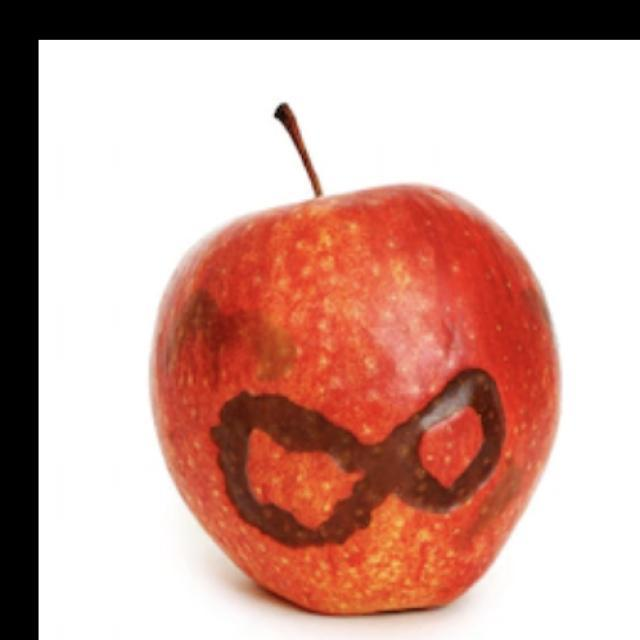Rotten: (145, 186, 570, 636)
